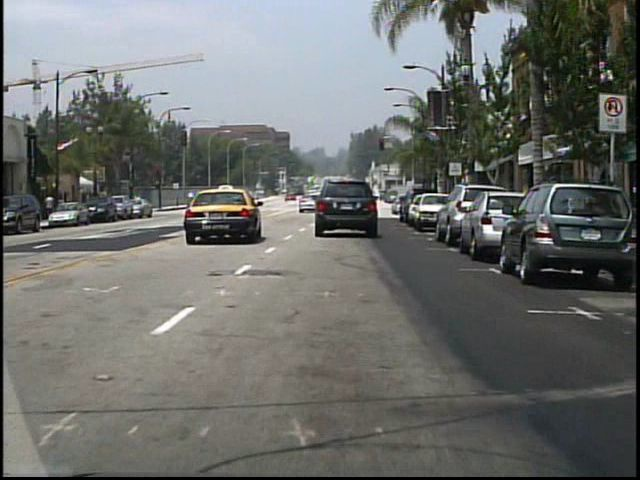person: (46, 193, 57, 222), (326, 191, 338, 213), (248, 190, 260, 211)
